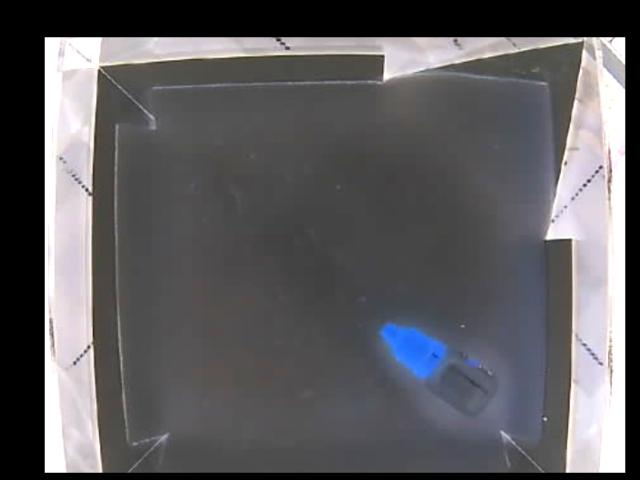Bottle: (380, 322, 501, 417)
